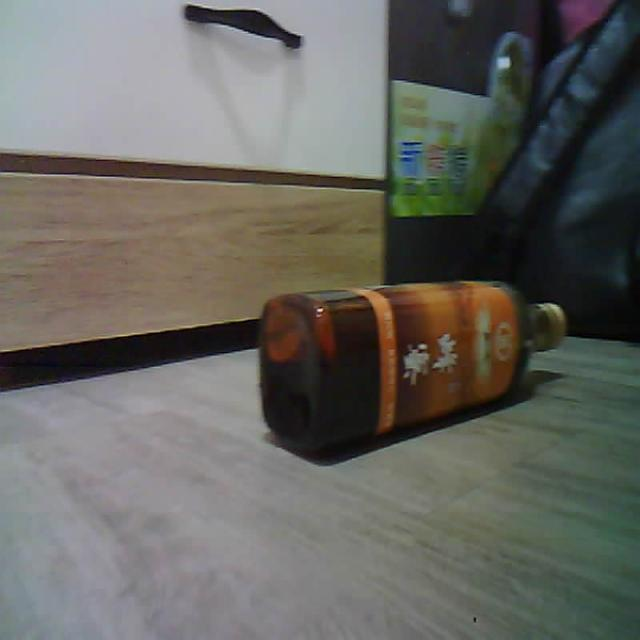bottle: (259, 281, 566, 452)
